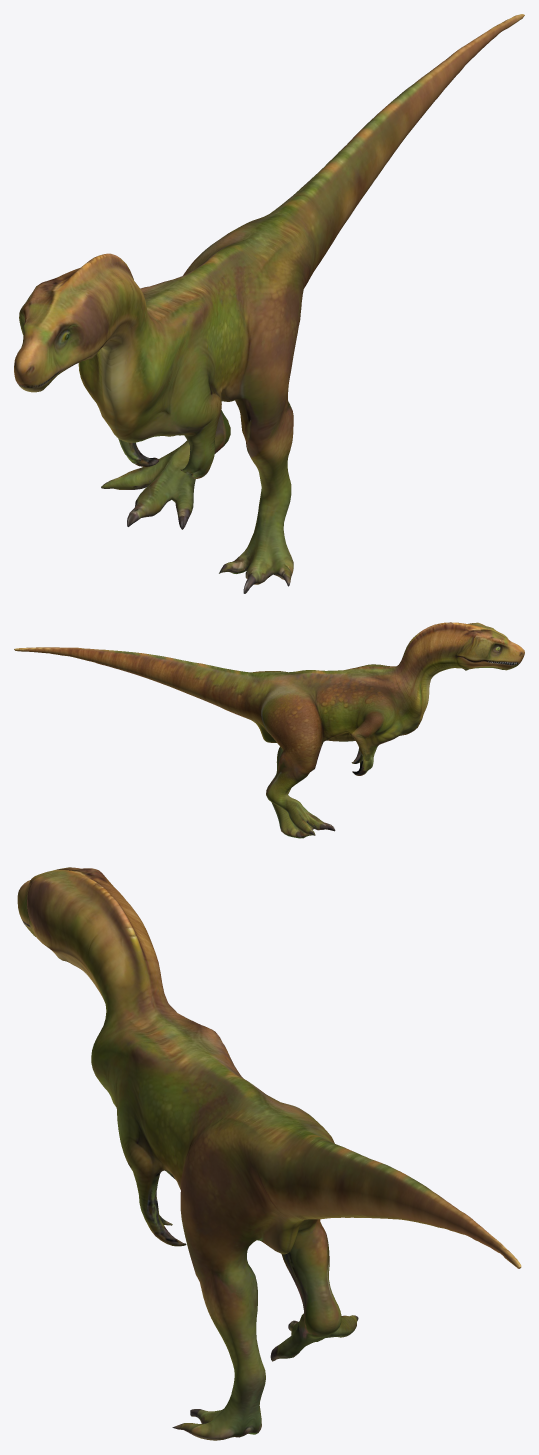
The picture shows the model from 3 angles, top to bottom: view 1: azimuth 30°, elevation 25°; view 2: azimuth 150°, elevation 25°; view 3: azimuth 270°, elevation 25°; orthographic projection. The views are drawn at different scales.
Parts seen in each view (by area): view 1: Mesh0; view 2: Mesh0; view 3: Mesh0.
Boxes of the visible parts, left/top/right/bottom form: Mesh0: left=14, top=14, right=524, bottom=593; Mesh0: left=14, top=622, right=524, bottom=838; Mesh0: left=17, top=867, right=521, bottom=1440.
Bounding box in the file's own units: 1.21 × 0.6471 × 0.6829.
1 material, 1 textured.
